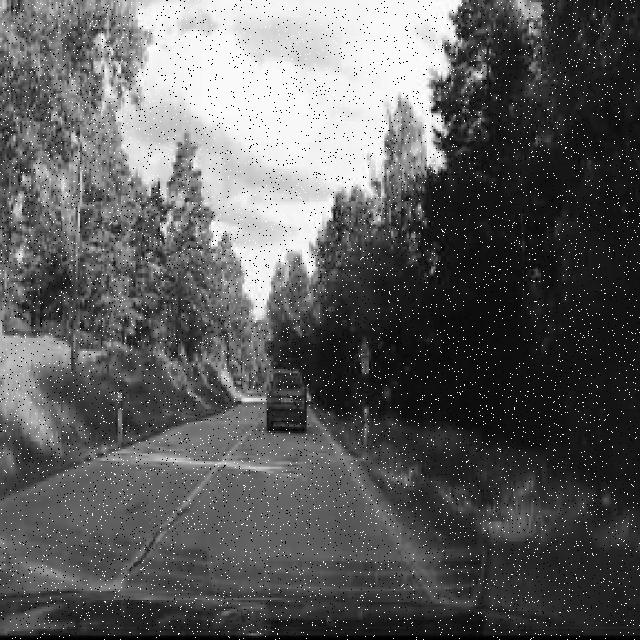clear-road: (0, 405, 398, 551)
